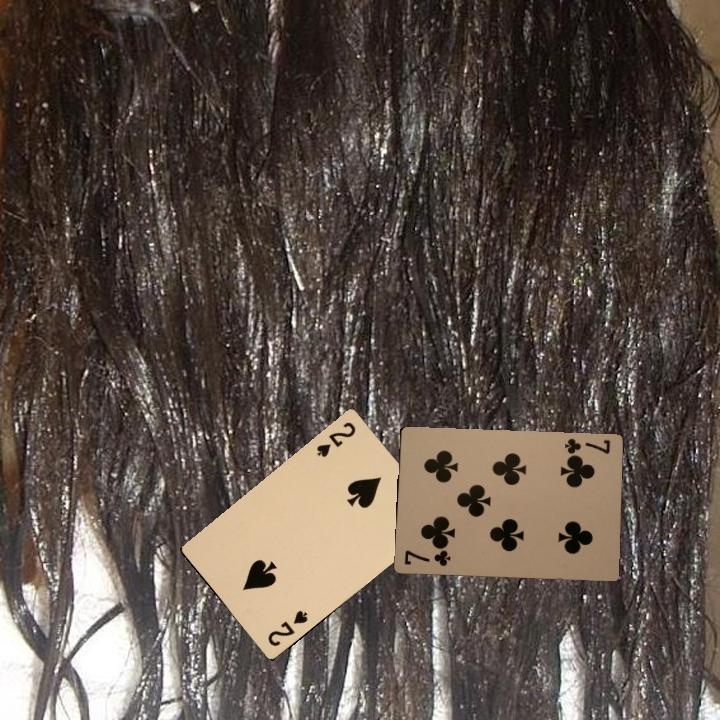2s: (264, 606, 310, 649), (312, 418, 358, 460)
7c: (561, 434, 613, 462), (400, 544, 453, 568)
